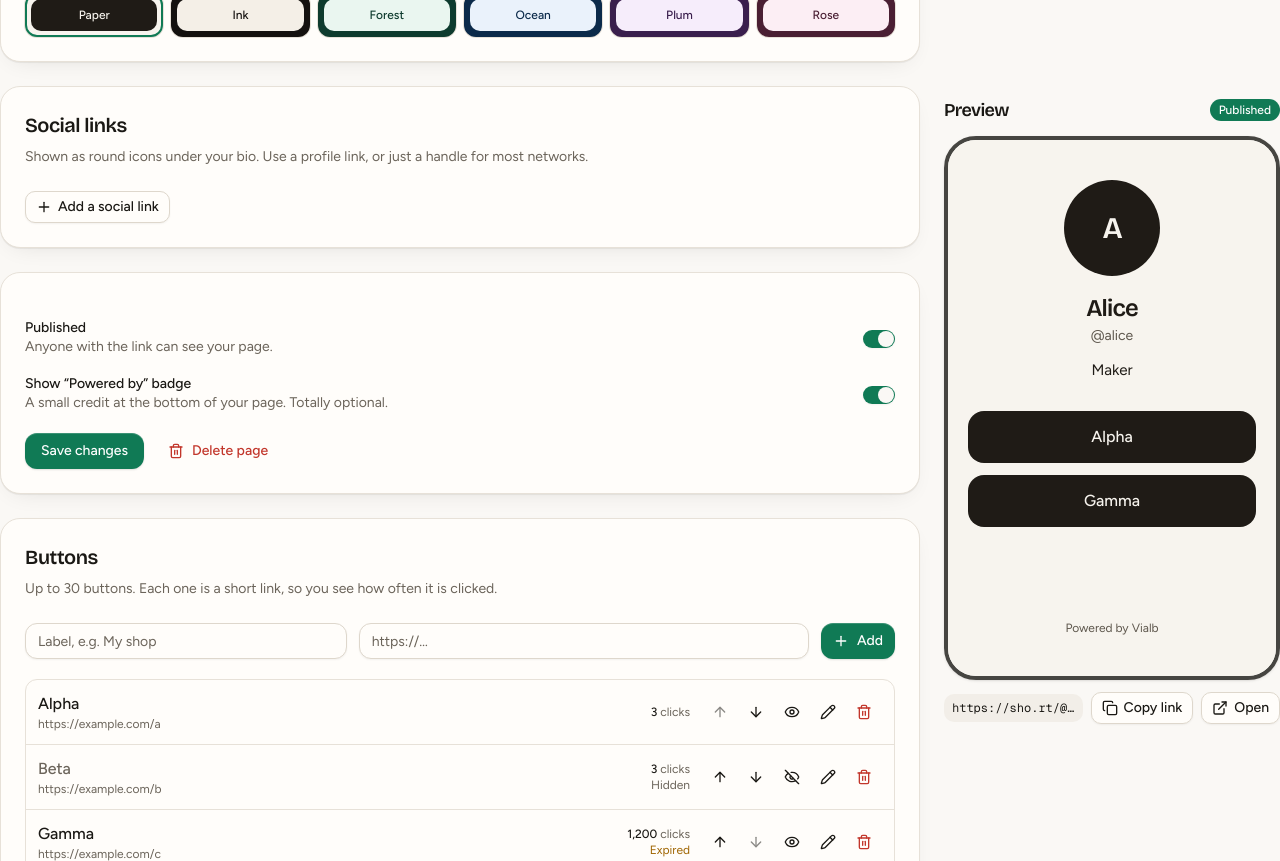
Test: BioEditor with a page and buttons › edits label and link in place and checks them first
(page scrolled)
Click the button named "Edit Alpha" at (828, 712), box [810,694,846,730]
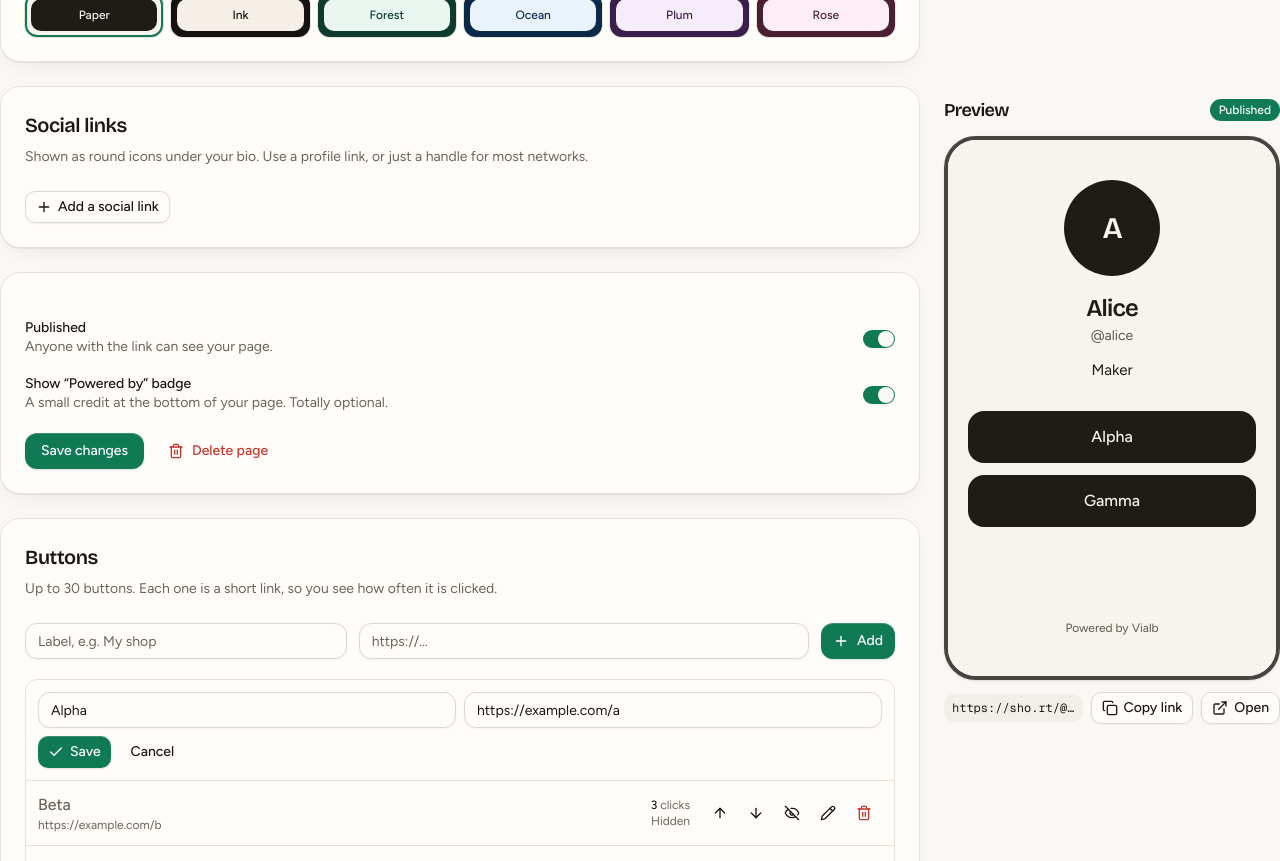
Replace the text in the field named "Link for Alpha" with "not a url" at (673, 710), box [464,692,882,728]
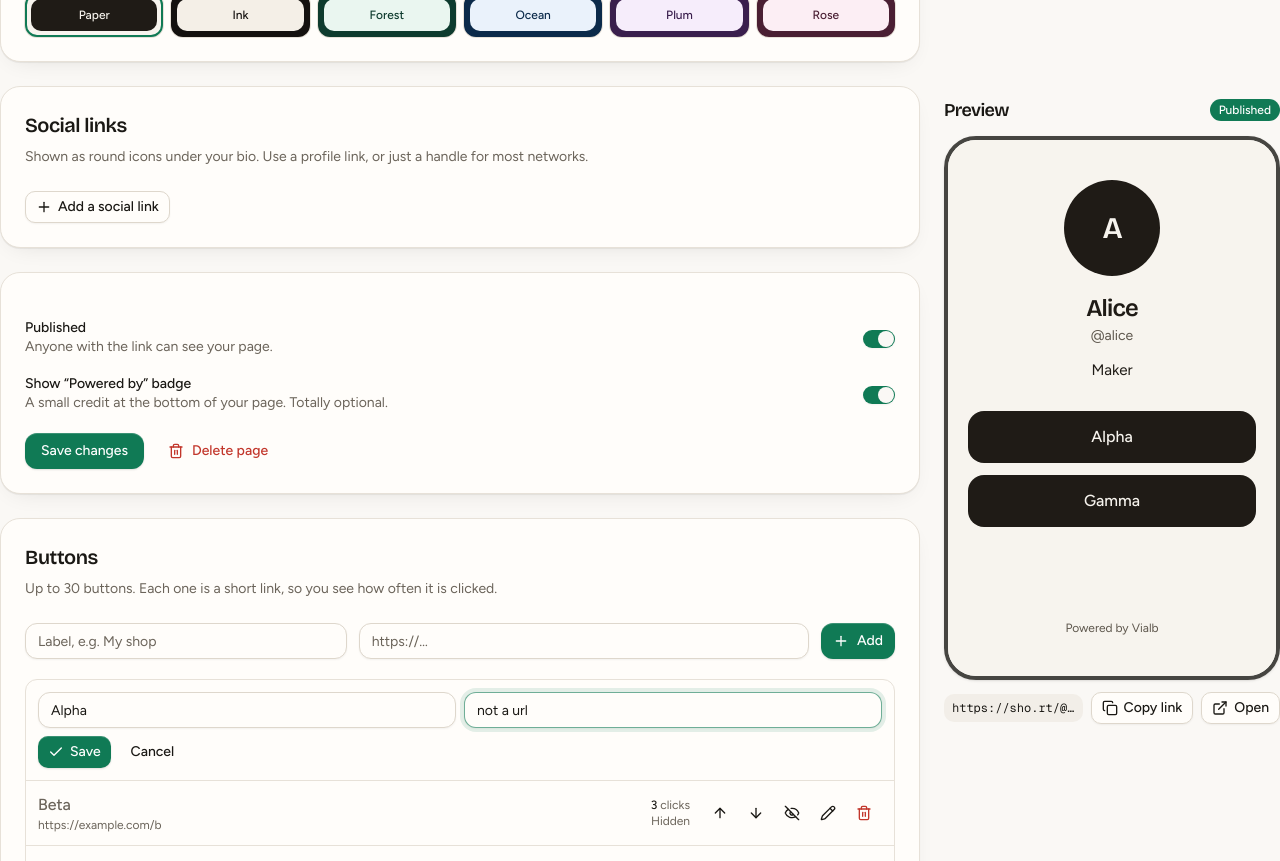
Click the button "Save" at (74, 752), box [38,736,111,768]
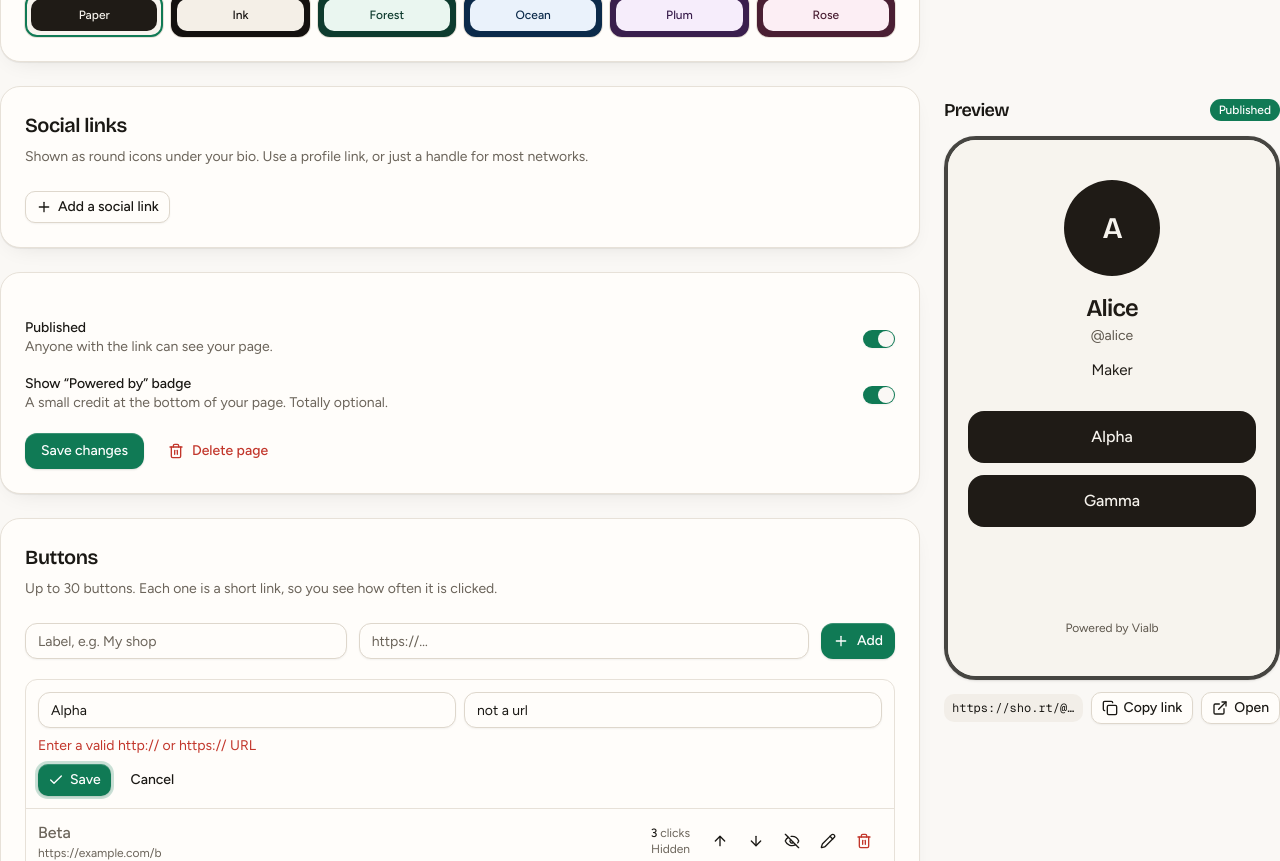
Expected: the message shows "valid http", [38,737,256,754]
Replace the text in the field named "Link for Alpha" with "https://example.com/new" at (673, 710), box [464,692,882,728]
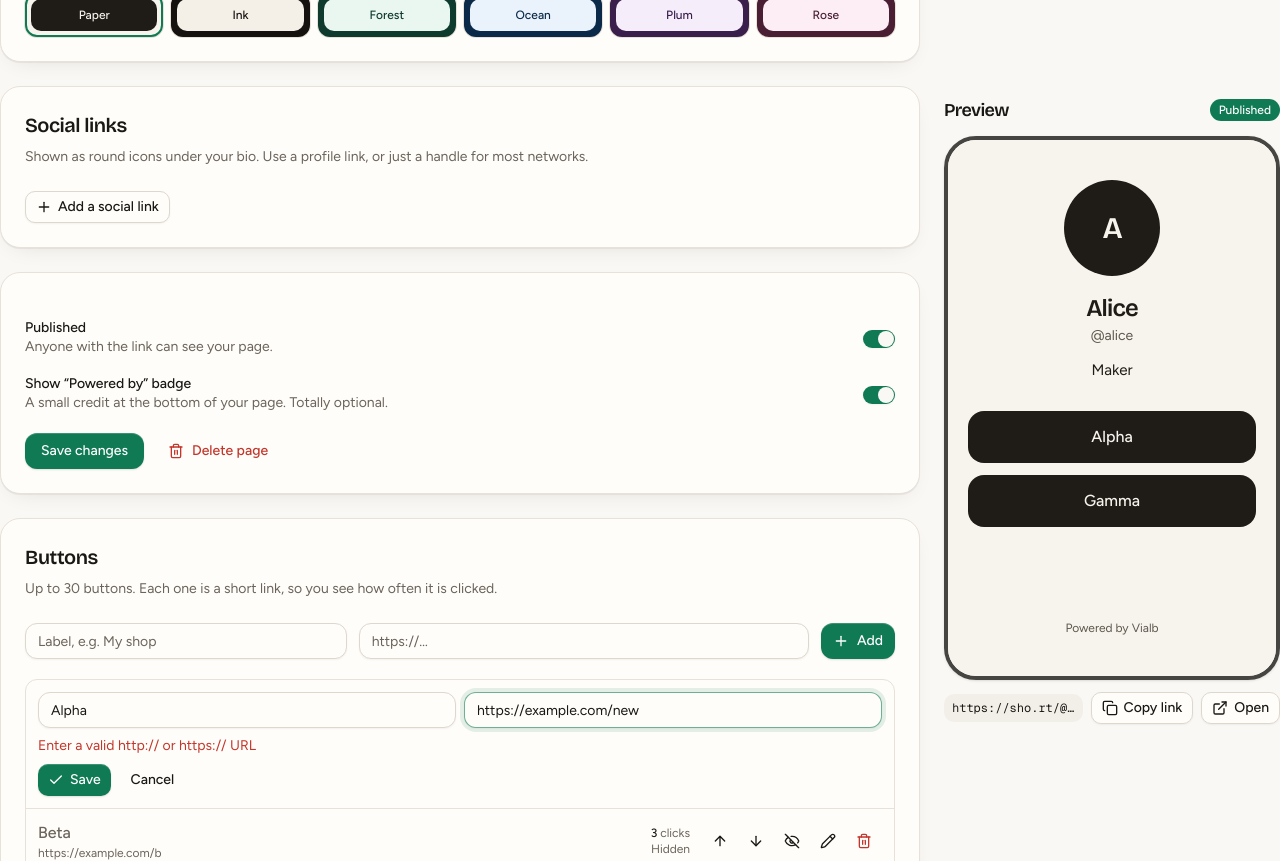
Replace the text in the field named "Label for Alpha" with "Alpha 2" at (247, 710), box [38,692,456,728]
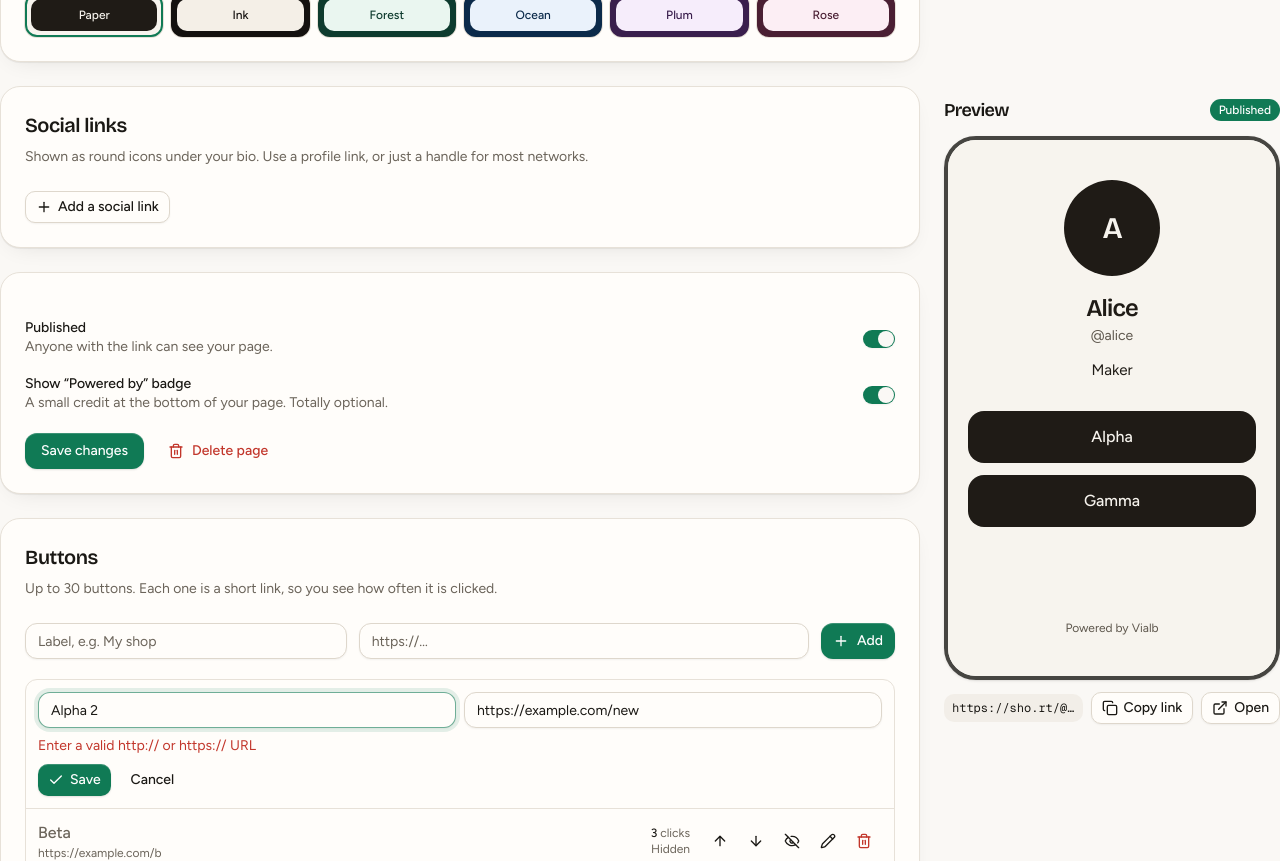
Click the button "Save" at (74, 780), box [38,764,111,796]
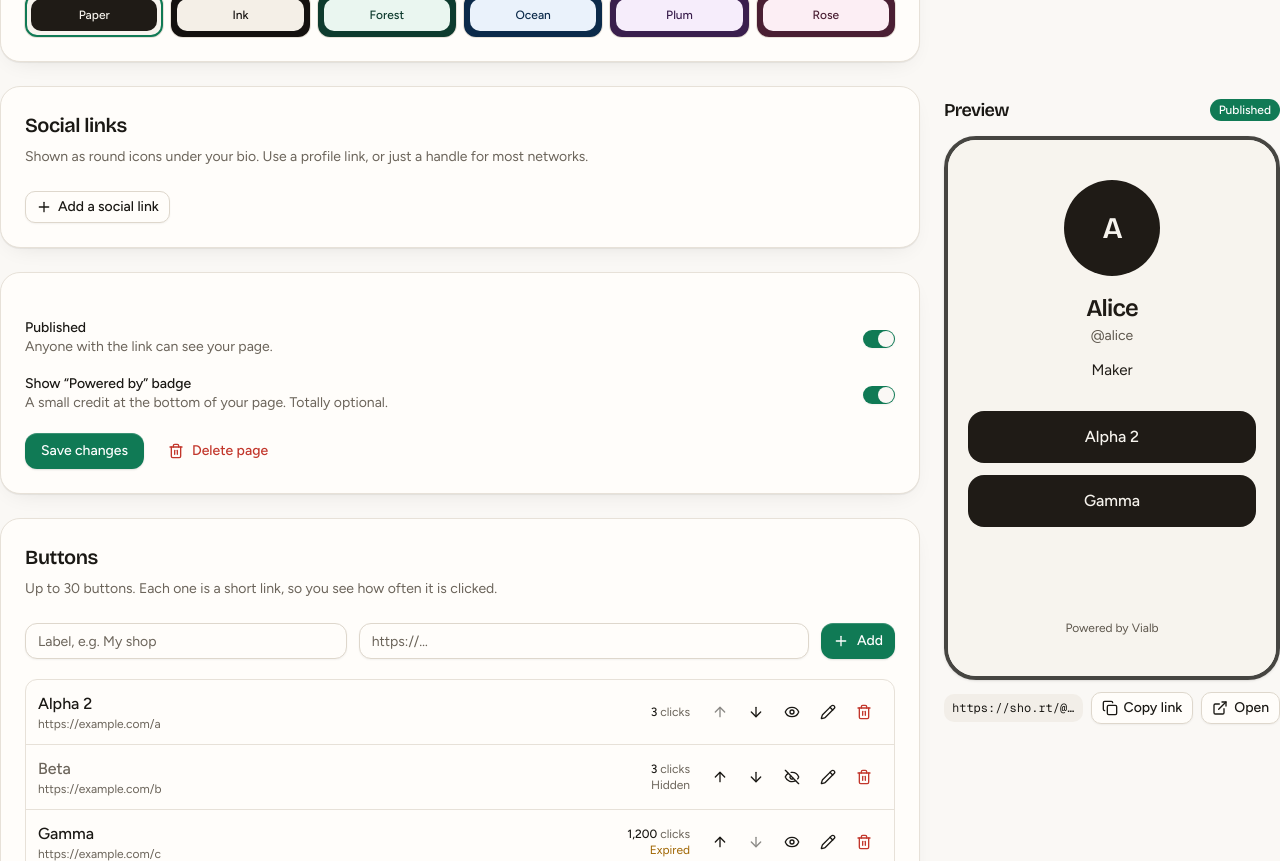
Expected: the 2nd text "Alpha 2" is shown, [38,694,92,713]
